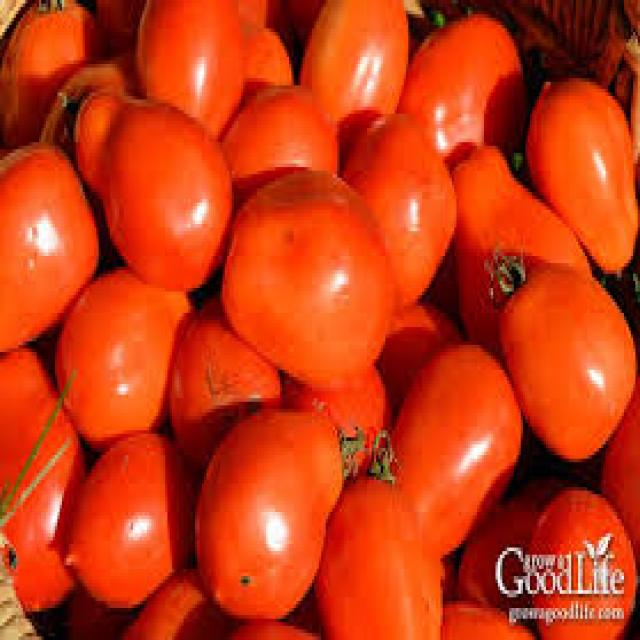Fresh_tomato: (199, 390, 337, 604), (82, 92, 232, 282), (503, 254, 631, 460), (245, 176, 383, 366), (55, 297, 208, 442), (373, 100, 472, 306), (323, 3, 419, 174)
